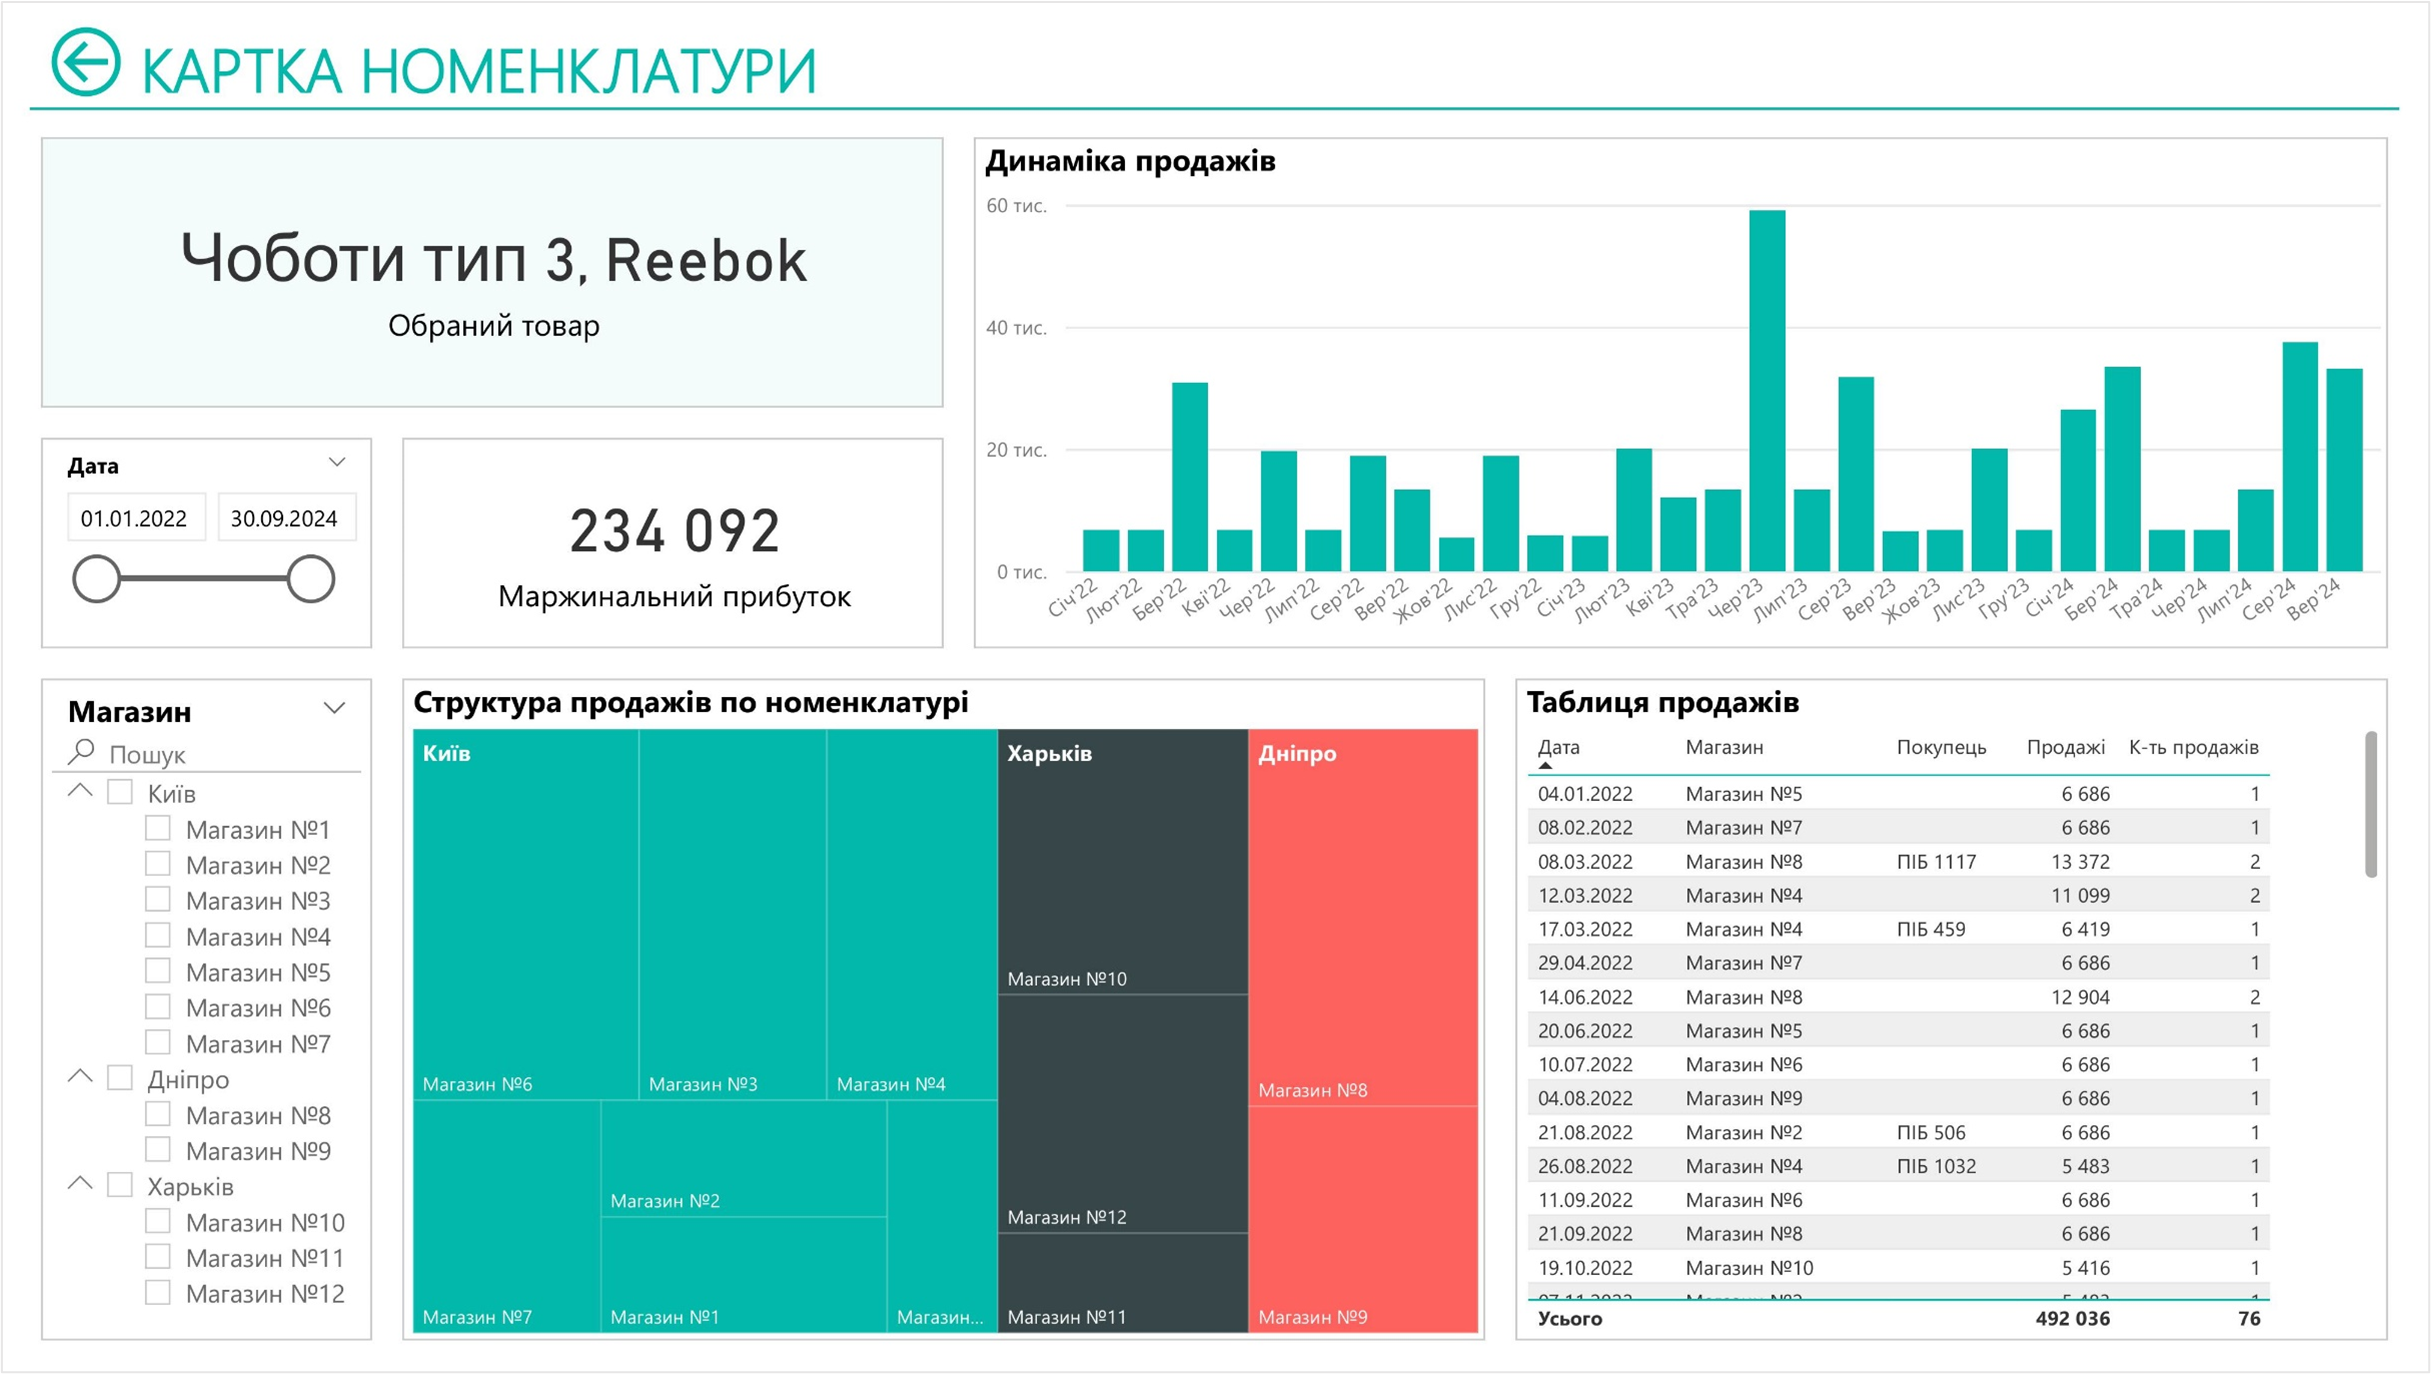

The dashboard page shown, as its layout file describes it:
{"tool":"powerbi","page":{"name":"Картка номенклатури","canvas":[1280,720],"ordinal":5},"visuals":[{"type":"clusteredColumnChart","title":"Динаміка продажів","fields":{"Y":["Sum(рПродажіФакт.ПродажіФакт)"],"Category":["Календар.Рік","Календар.Місяць","Календар.Дата"]},"box":[512,64,752,272],"z":0},{"type":"slicer","fields":{"Values":["Календар.Дата"]},"box":[16,224,176,112],"z":1000},{"type":"slicer","fields":{"Values":["довМагазини.Місто","довМагазини.Магазин"]},"box":[16,352,176,352],"z":2000},{"type":"card","fields":{"Values":["рПродажіФакт.МаржПрибуток факт міра"]},"box":[208,224,288,112],"z":4000},{"type":"treemap","title":"Структура продажів по номенклатурі","fields":{"Values":["Sum(рПродажіФакт.ПродажіФакт)"],"Group":["довМагазини.Місто"],"Details":["довМагазини.Магазин"]},"box":[208,352,576,352],"z":5000},{"type":"basicShape","box":[0,33,1280,32],"z":6000},{"type":"textbox","box":[64,0,496,64],"z":7000},{"type":"tableEx","title":"Таблиця продажів","fields":{"Values":["Календар.Дата","довМагазини.Магазин","довПокупці.Покупець","Sum(рПродажіФакт.ПродажіФакт)","Sum(рПродажіФакт.К-ть)"]},"box":[800,352,464,352],"z":8000},{"type":"actionButton","box":[16,0,48,48],"z":9000},{"type":"card","fields":{"Values":["довТовари.Обраний товар"]},"box":[16,64,480,144],"z":10001}]}

Visuals, with their boxes in screenshot pixels (x1, y1, x2, y2), scaled from the page's 1280x720 canvas onto the 2431x1374 screenshot:
"Динаміка продажів" clusteredColumnChart: crop(972, 122, 2401, 641)
slicer - Календар.Дата: crop(30, 427, 365, 641)
slicer - довМагазини.Місто x довМагазини.Магазин: crop(30, 672, 365, 1343)
card - рПродажіФакт.МаржПрибуток факт міра: crop(395, 427, 942, 641)
"Структура продажів по номенклатурі" treemap: crop(395, 672, 1489, 1343)
basicShape: crop(0, 63, 2430, 124)
textbox: crop(122, 0, 1064, 122)
"Таблиця продажів" tableEx: crop(1519, 672, 2401, 1343)
actionButton: crop(30, 0, 122, 92)
card - довТовари.Обраний товар: crop(30, 122, 942, 397)
